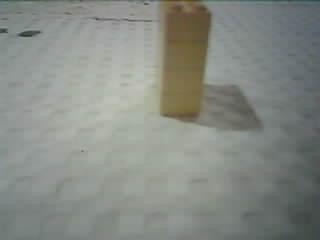lego: (152, 1, 212, 115)
